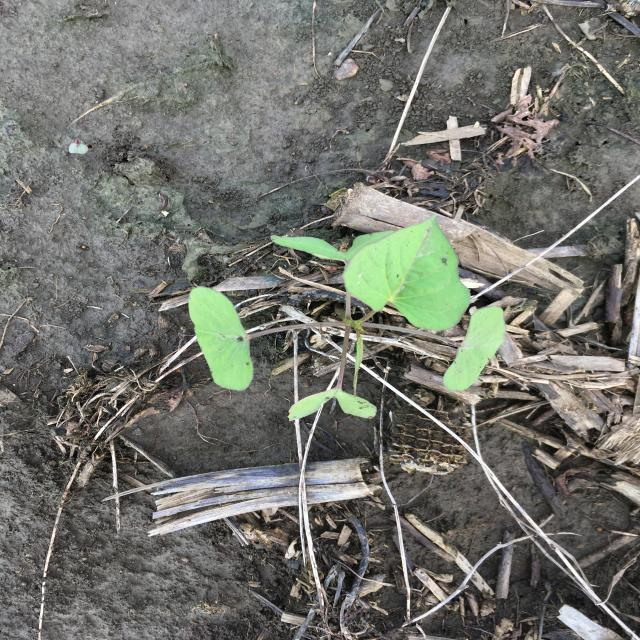MorningGlory: (186, 211, 510, 422)
